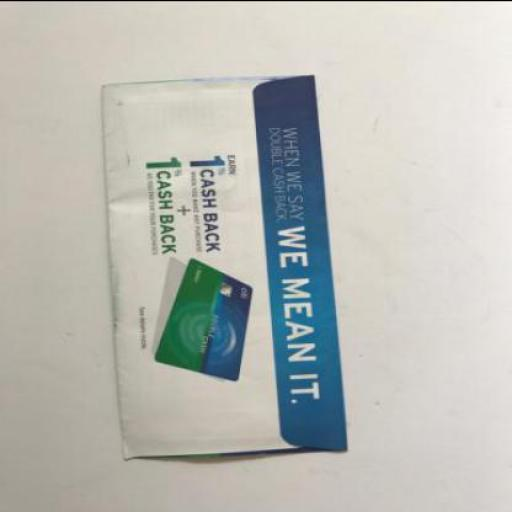paper: (100, 72, 349, 458)
